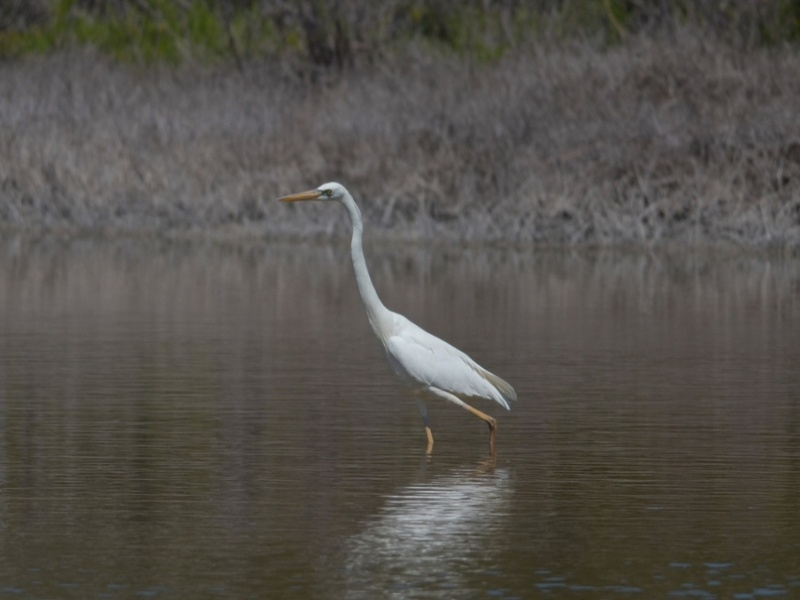heron: (276, 175, 526, 476)
